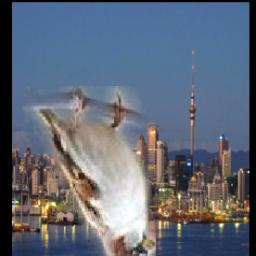Sparrow: (22, 86, 156, 256)
